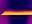Hotspot: (1, 11, 31, 15)
